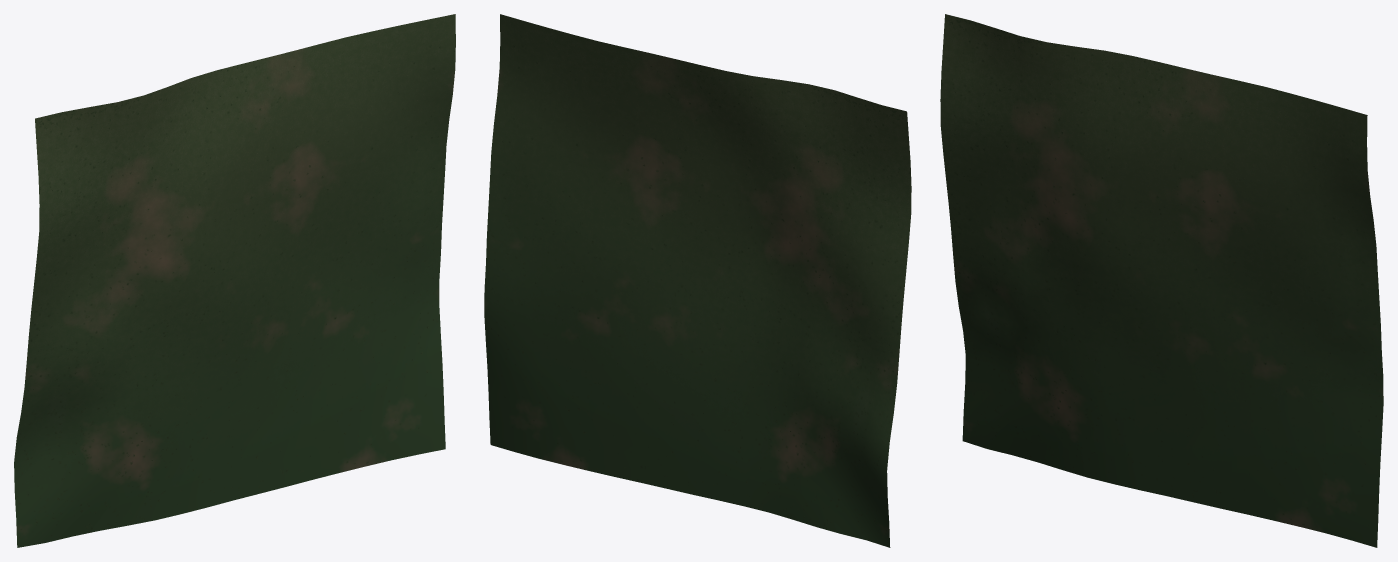
The model's file is terrain_far_03_00.obj.
3 views of the same model, side by side, from view 1: azimuth 30°, elevation 25°; view 2: azimuth 150°, elevation 25°; view 3: azimuth 330°, elevation 25° (orthographic). The views are drawn at different scales.
Parts seen in each view (by area): view 1: terrain_far_03_00; view 2: terrain_far_03_00; view 3: terrain_far_03_00.
Boxes of the visible parts, box(x1,y1,x2,y2) form: terrain_far_03_00: box(14, 14, 455, 547); terrain_far_03_00: box(484, 14, 911, 547); terrain_far_03_00: box(940, 14, 1383, 547).
Size of the model in its own units: 640 by 640 by 66.87.
Materials: 1 (1 with a texture image).
